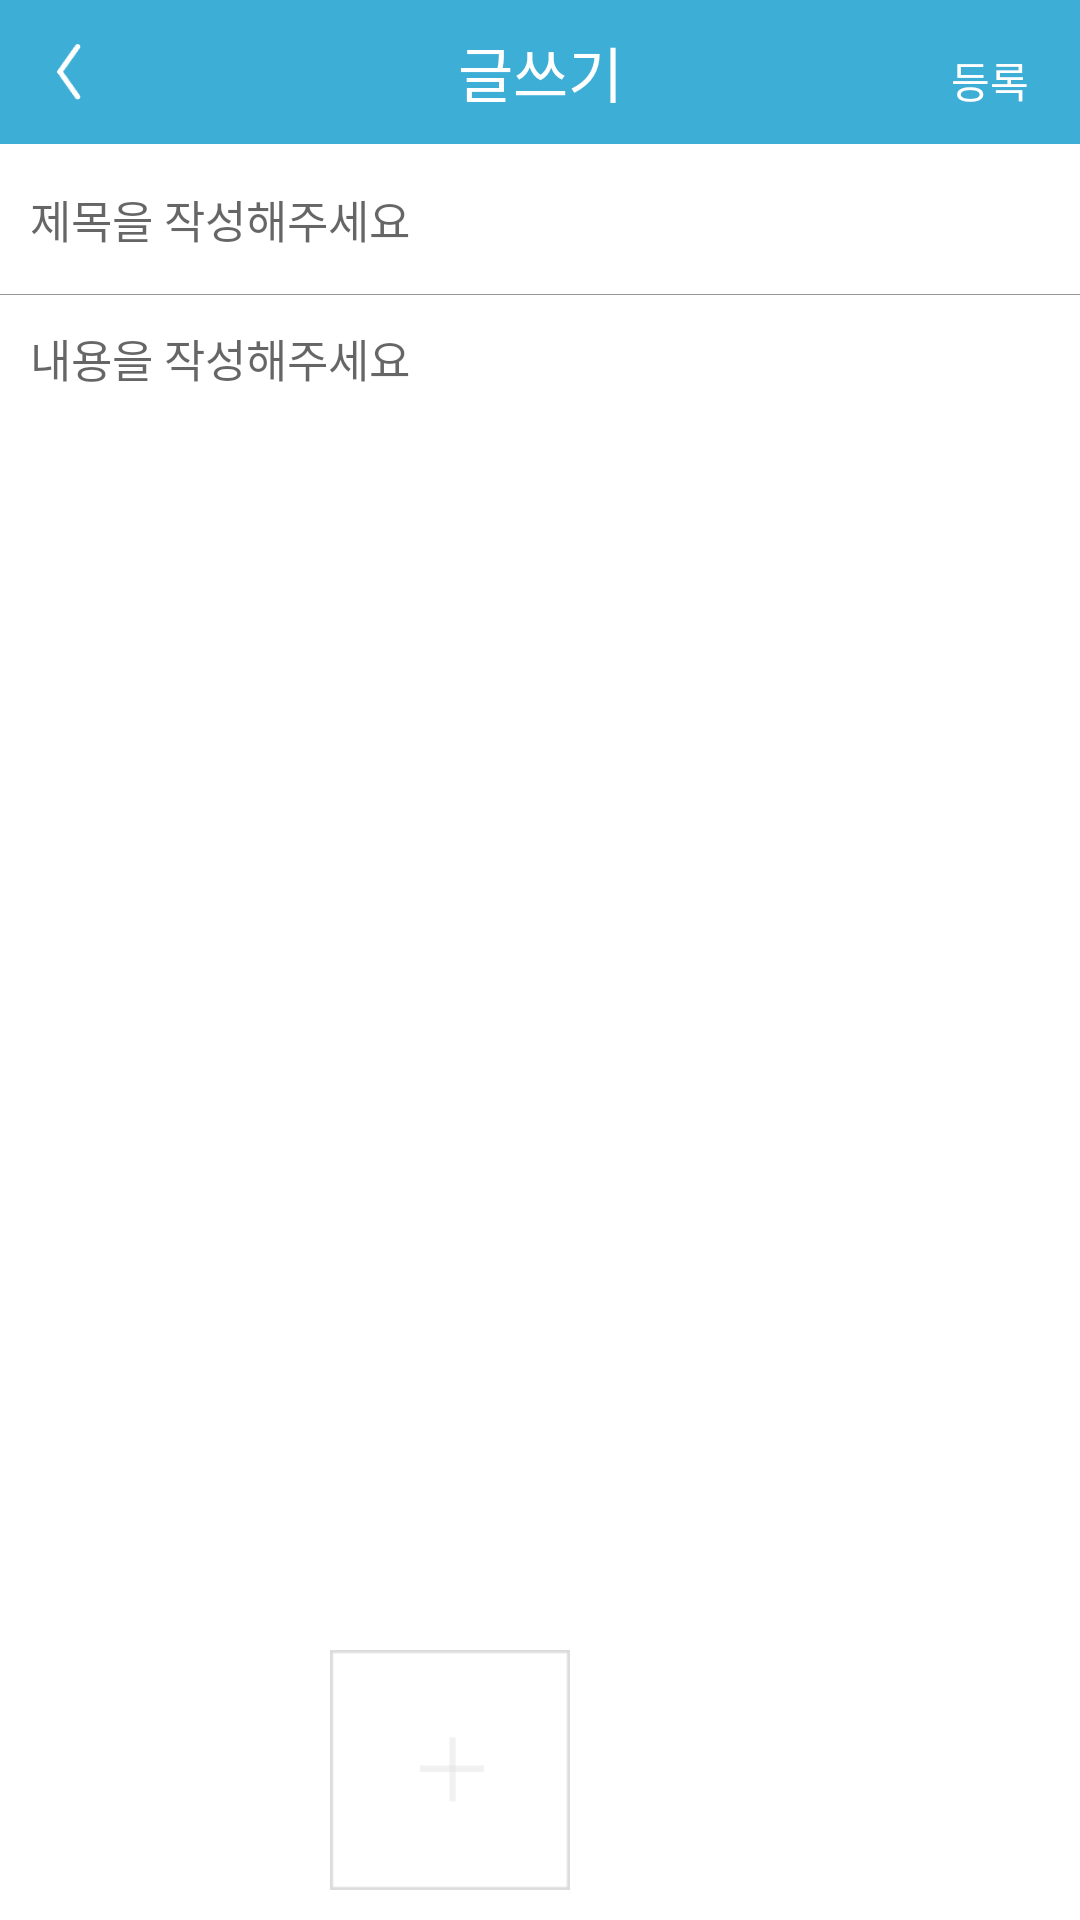

Named icons in this screenshot (1080px x 1920px) and their bounding boxes, detection(x1, y1, x2, y2):
back: detection(57, 44, 81, 100)
